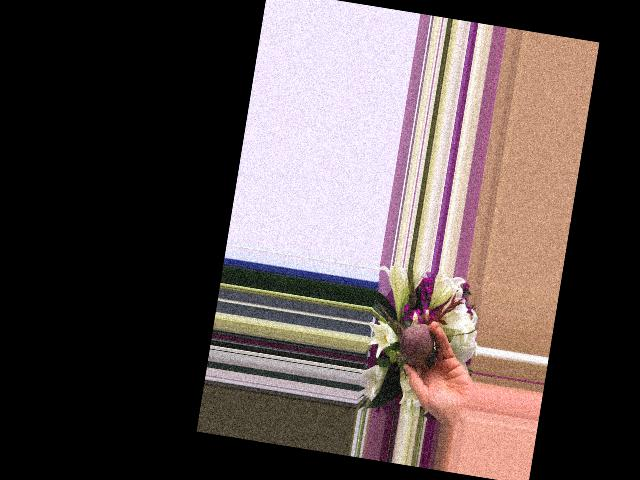beet: (366, 299, 444, 370)
